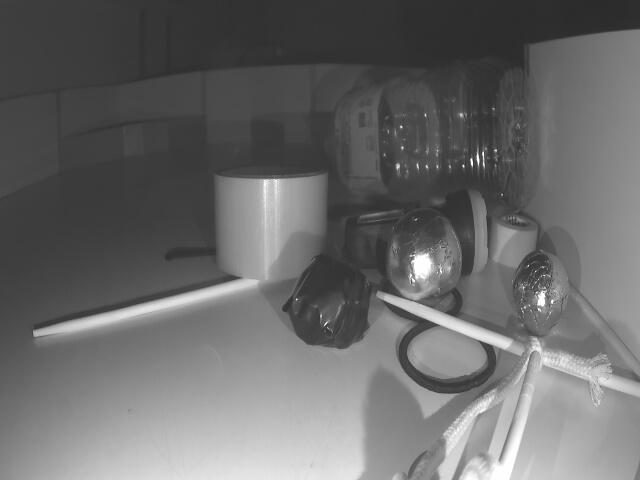Dead: (285, 258, 374, 351)
Live: (389, 209, 462, 303), (513, 246, 568, 336)
Point: (62, 114, 197, 175)
